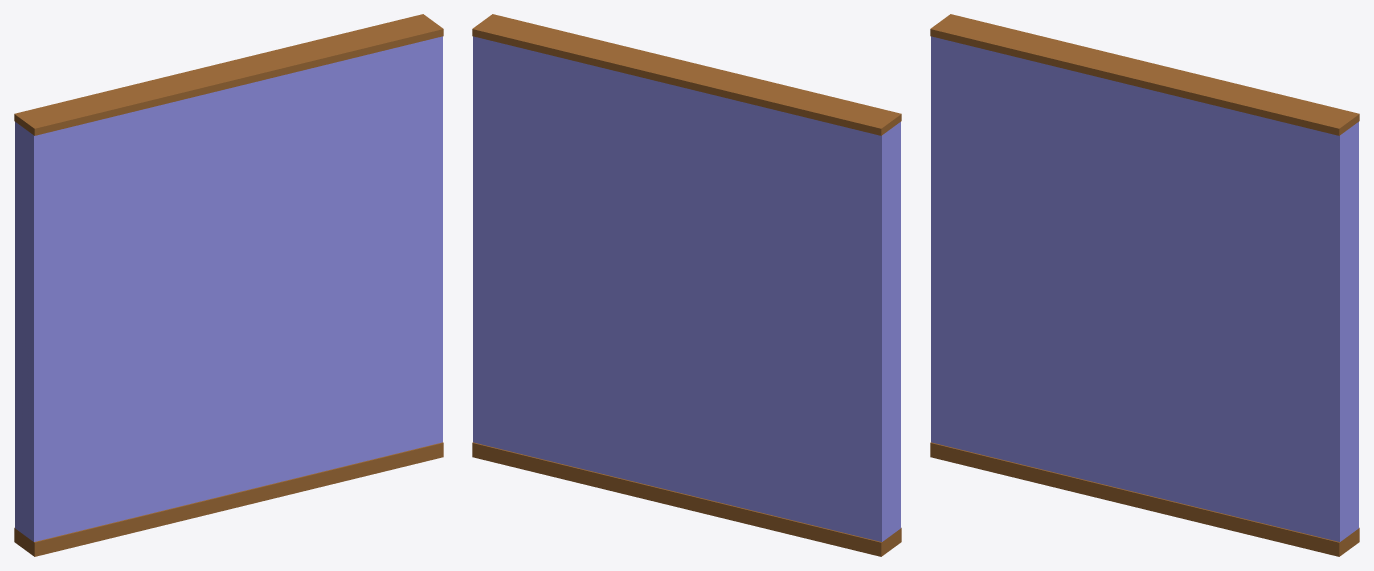
File: IC_Wall01.FBX
3 renders of one model, left to right at view 1: azimuth 30°, elevation 25°; view 2: azimuth 150°, elevation 25°; view 3: azimuth 330°, elevation 25°, orthographic.
Parts seen in each view (by area): view 1: IC_Wall01; view 2: IC_Wall01; view 3: IC_Wall01.
Part boxes in pixels (x1,y1,x2,y2): IC_Wall01: (14,14,443,556); IC_Wall01: (472,14,901,556); IC_Wall01: (930,14,1359,556).
Size of the model in its own units: 300 by 300 by 26.
